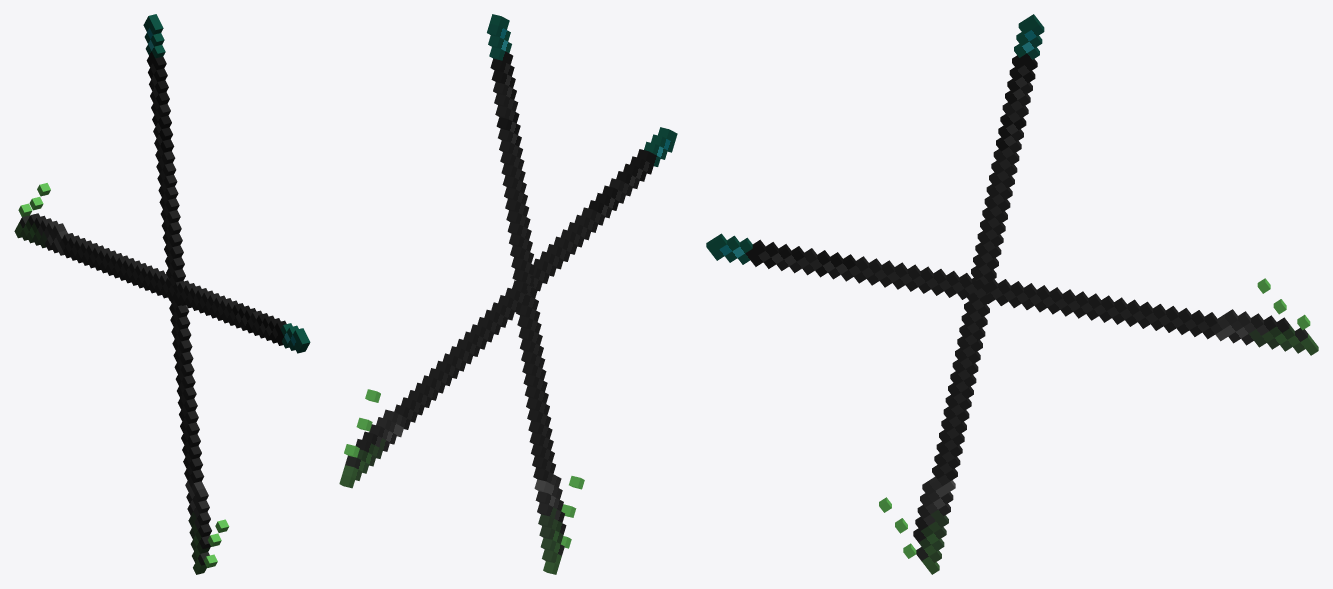
The model's file is myrmex_jungle_venom_pike.glb.
3 renders of one model, left to right at view 1: azimuth 30°, elevation 25°; view 2: azimuth 150°, elevation 25°; view 3: azimuth 270°, elevation 25°, orthographic. The views are drawn at different scales.
Parts seen in each view (by area): view 1: off__Tool_L, main__Tool_R; view 2: off__Tool_L, main__Tool_R; view 3: main__Tool_R, off__Tool_L.
Boxes of the visible parts, left/top/right/bottom form: off__Tool_L: left=143, top=14, right=229, bottom=574; main__Tool_R: left=14, top=183, right=310, bottom=353; off__Tool_L: left=487, top=14, right=584, bottom=574; main__Tool_R: left=339, top=127, right=677, bottom=488; main__Tool_R: left=706, top=233, right=1318, bottom=355; off__Tool_L: left=879, top=14, right=1044, bottom=574.
Size of the model in its own units: 0.0625 by 3.88 by 3.87.
1 material, 1 textured.
